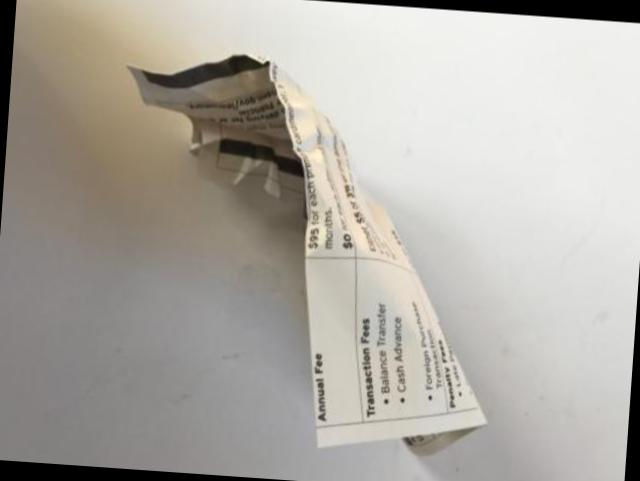cardboard paper: (131, 56, 487, 447)
